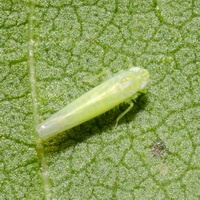insect: (37, 67, 148, 139), (37, 67, 148, 138)
